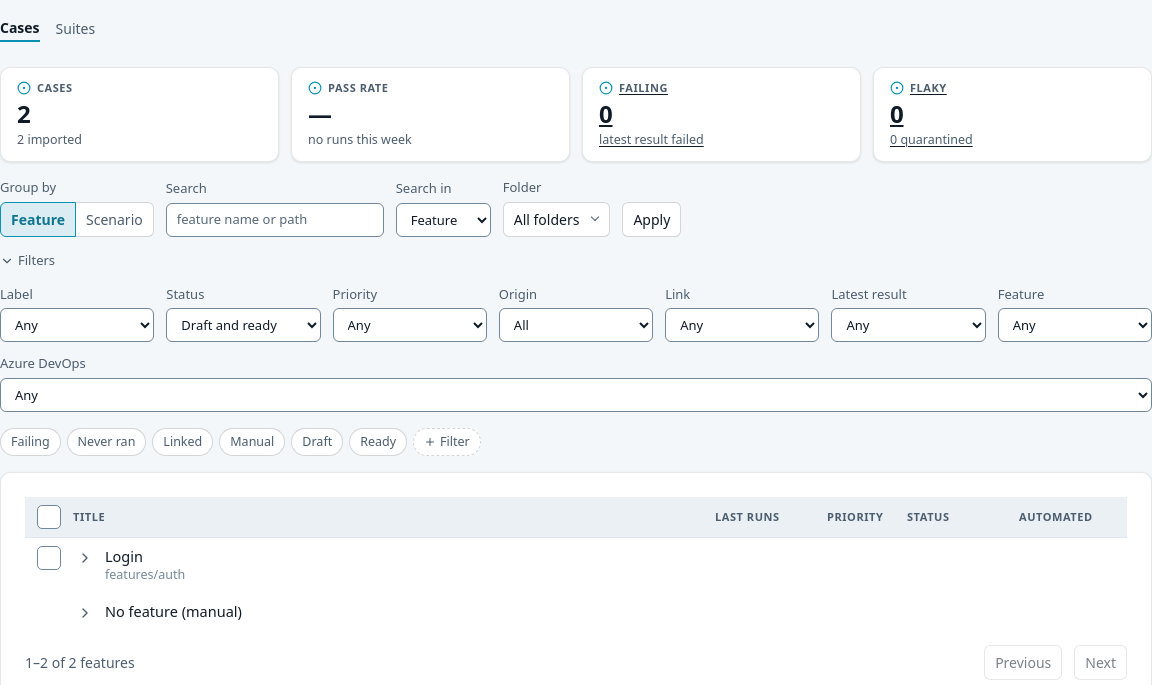
Test: Search in defaults to Feature in Feature view and Scenario in Scenario view, and reaches the API
The width and height of the screenshot is (1152, 685).
Expected: the link "Login" is shown, [105,546,143,566]
Expected: the dropdown labelled "Search in" shows "Feature", [396,203,491,237]
Type "pay" into the search field labelled "Search". click: (275, 220)
box: [166,203,384,237]
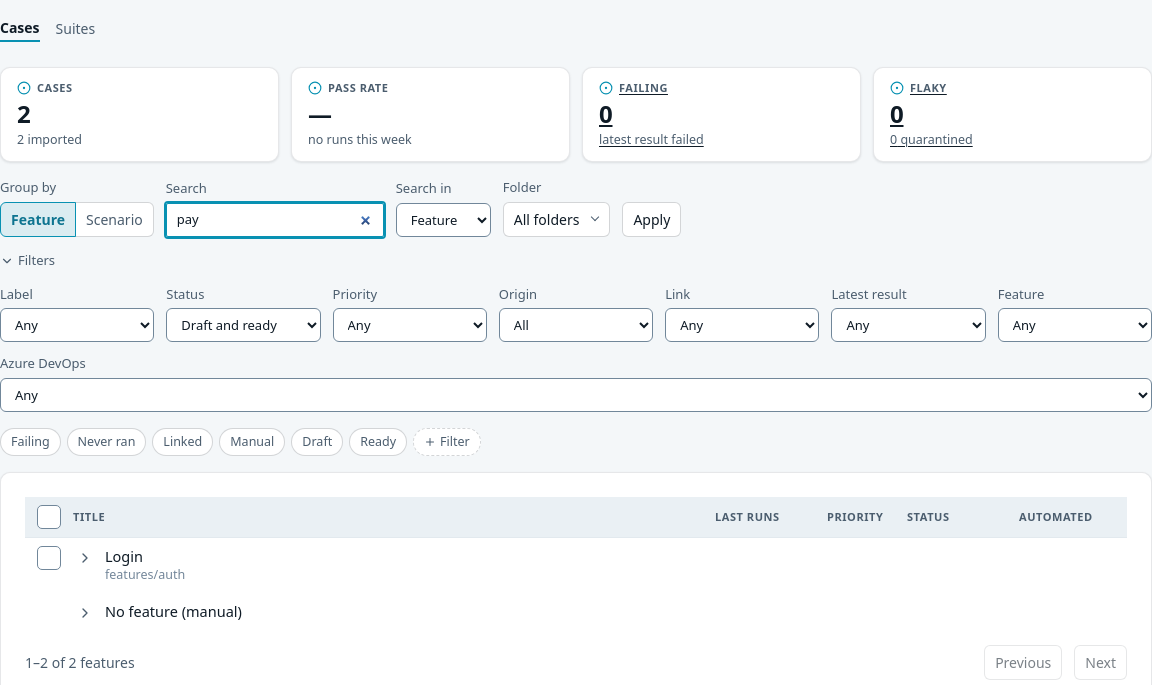
Select "Both" in the dropdown labelled "Search in". click: (443, 220)
box: [396,203,491,237]
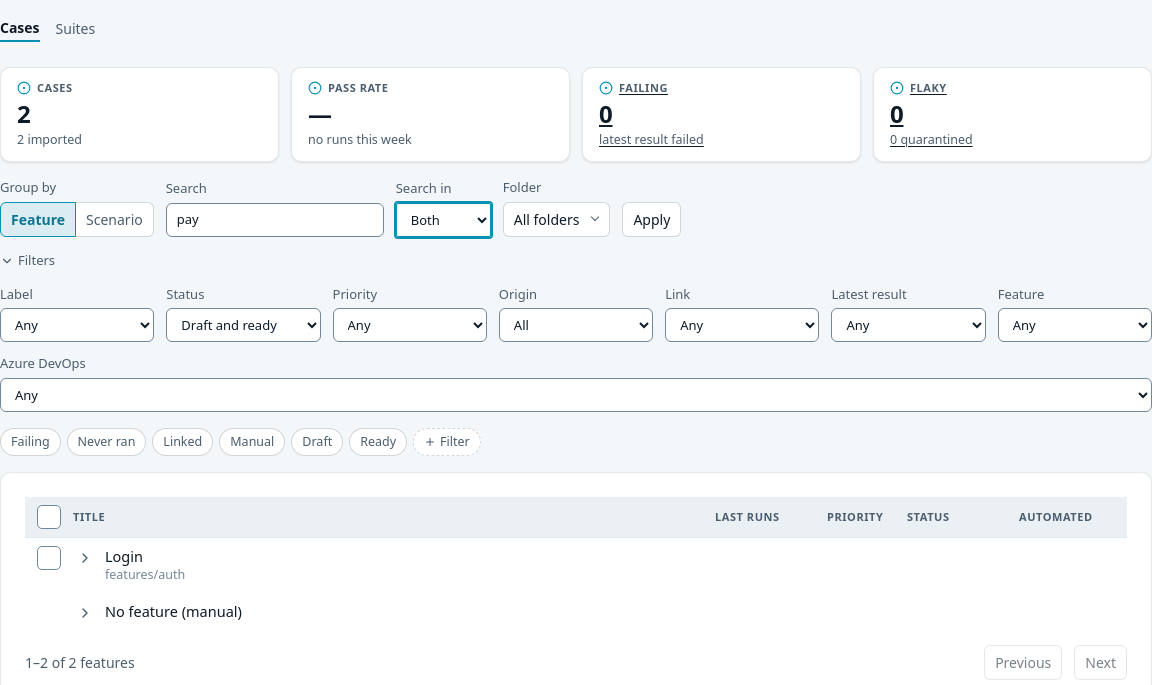
Click the button "Apply". click: (652, 219)
box: [622,202,681,237]
(page scrolled)
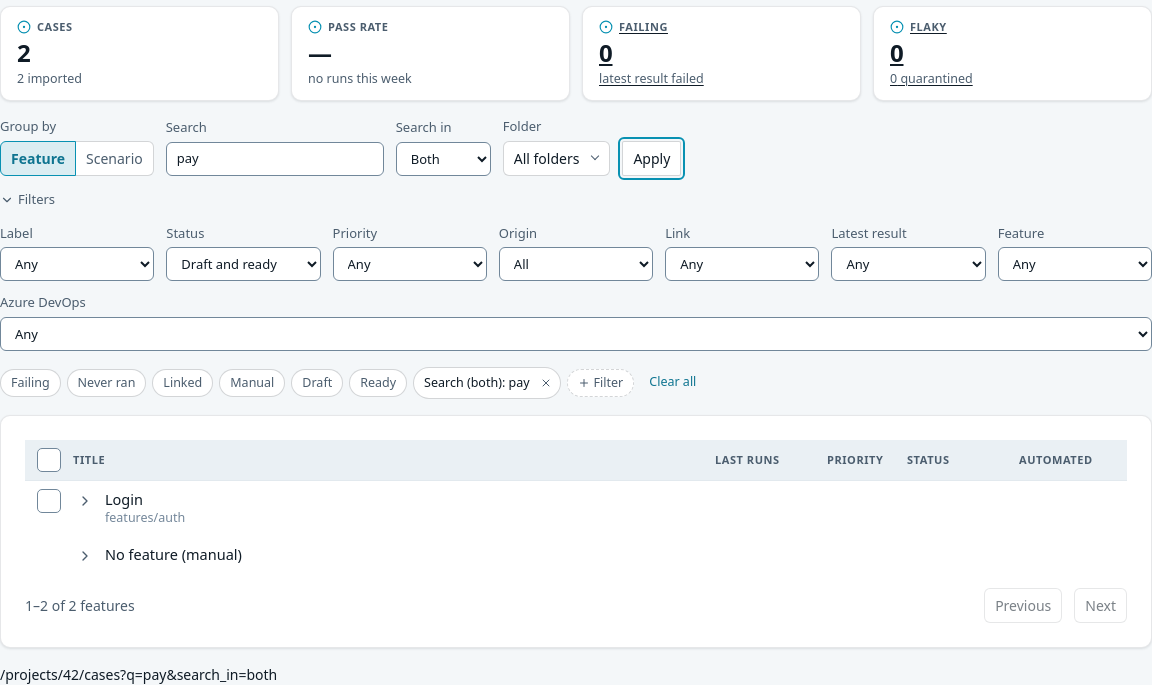
Expected: the text with test id "where" shows "search_in=both", [0,665,277,684]
